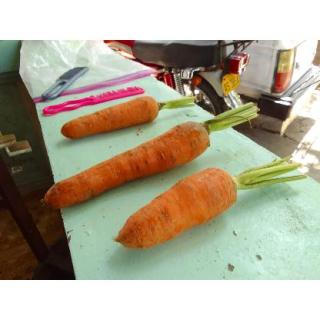Wortel: (28, 90, 320, 259)
